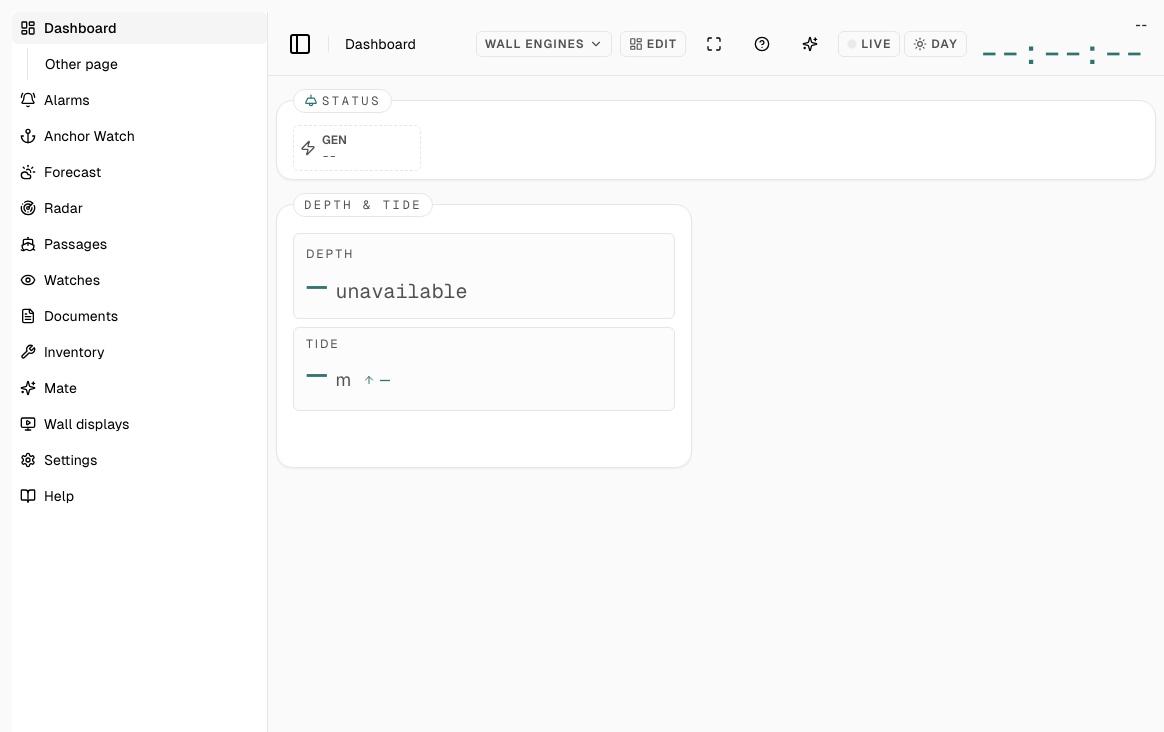
it: App at / (dashboard authoring) › shows the fold guide in edit mode on a page assigned to a display with a measured canvas, not on an unassigned one
The image size is (1164, 732).
What coordinates should you click on to do the following:
click the button with aria-label "Enter edit mode"
I would click on:
 (653, 44)
Its box is [620,30,686,56].
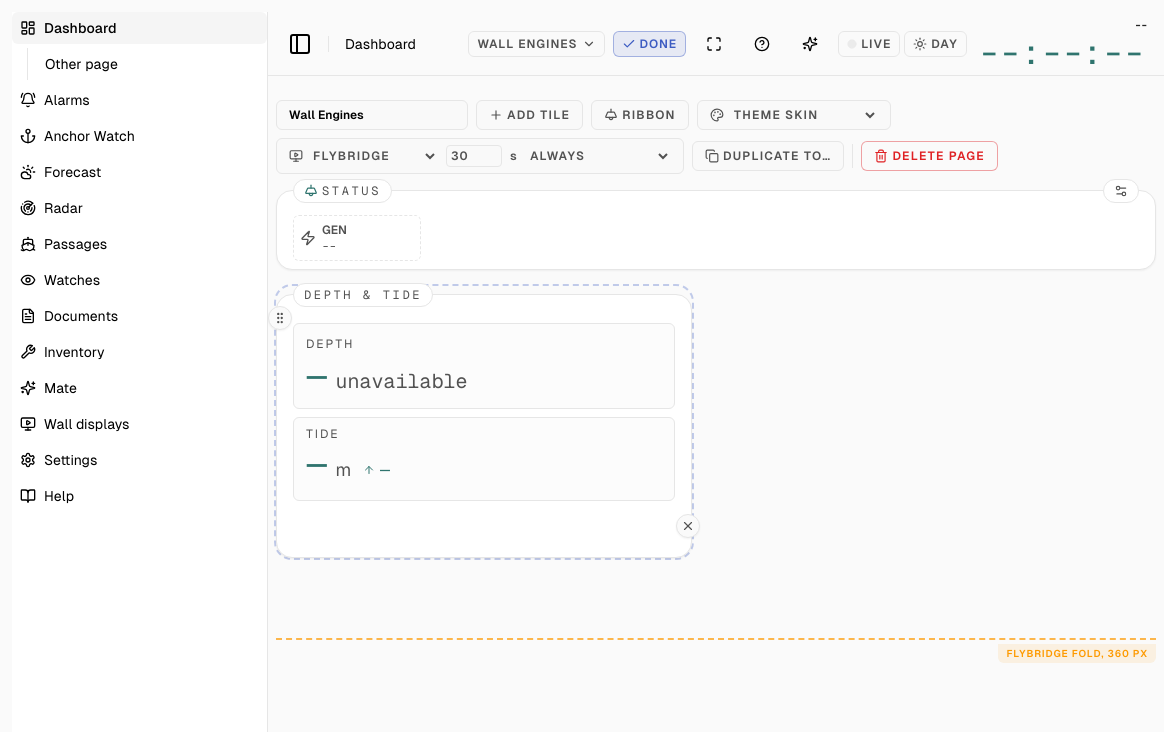
Expected: the element with test id "display-fold" is shown, [276,638,1156,640]
What coordinates should you click on to do the following:
click the button "Other page"
I would click on:
 (81, 64)
Its box is [37,50,126,78].
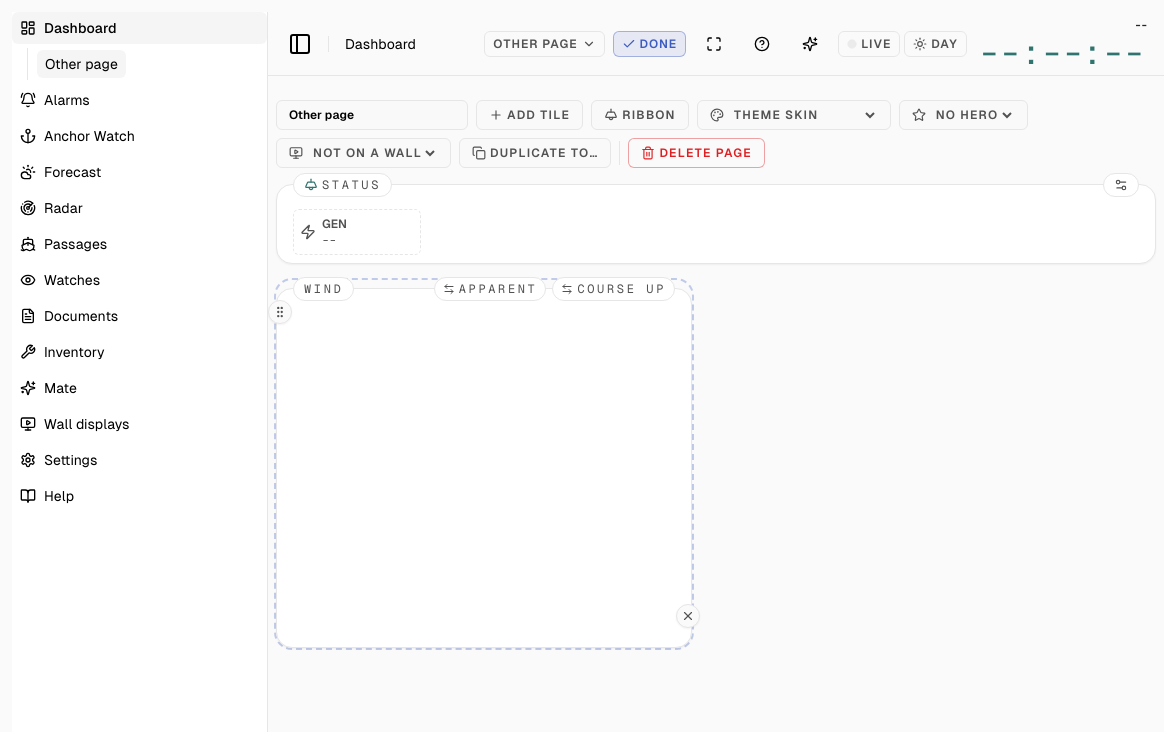
Expected: the element with test id "display-fold" is gone
